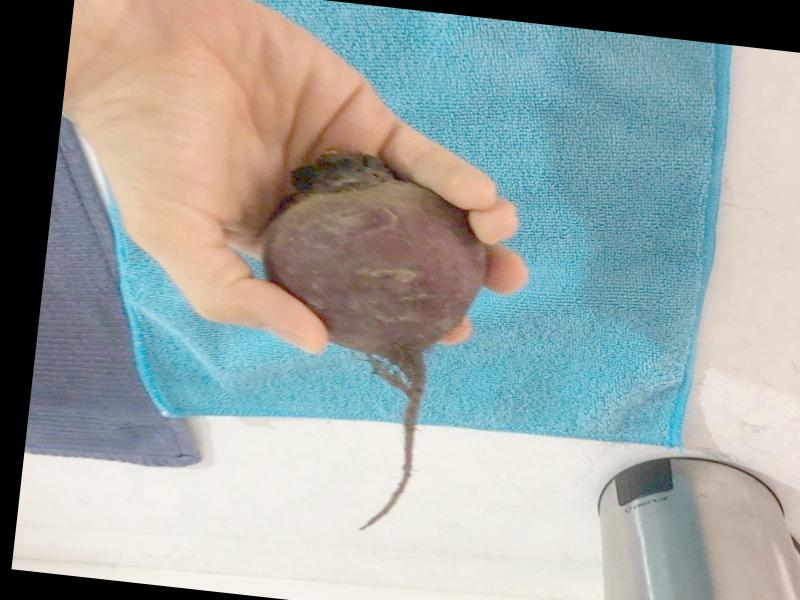Beet: (233, 143, 499, 539)
